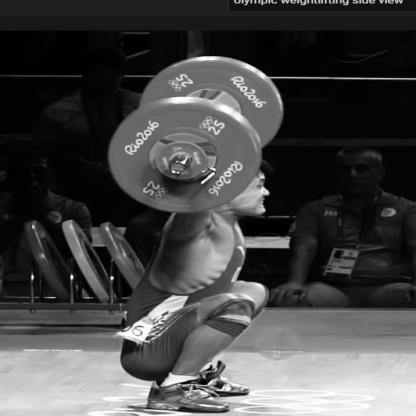Barbell: (166, 159, 192, 179)
